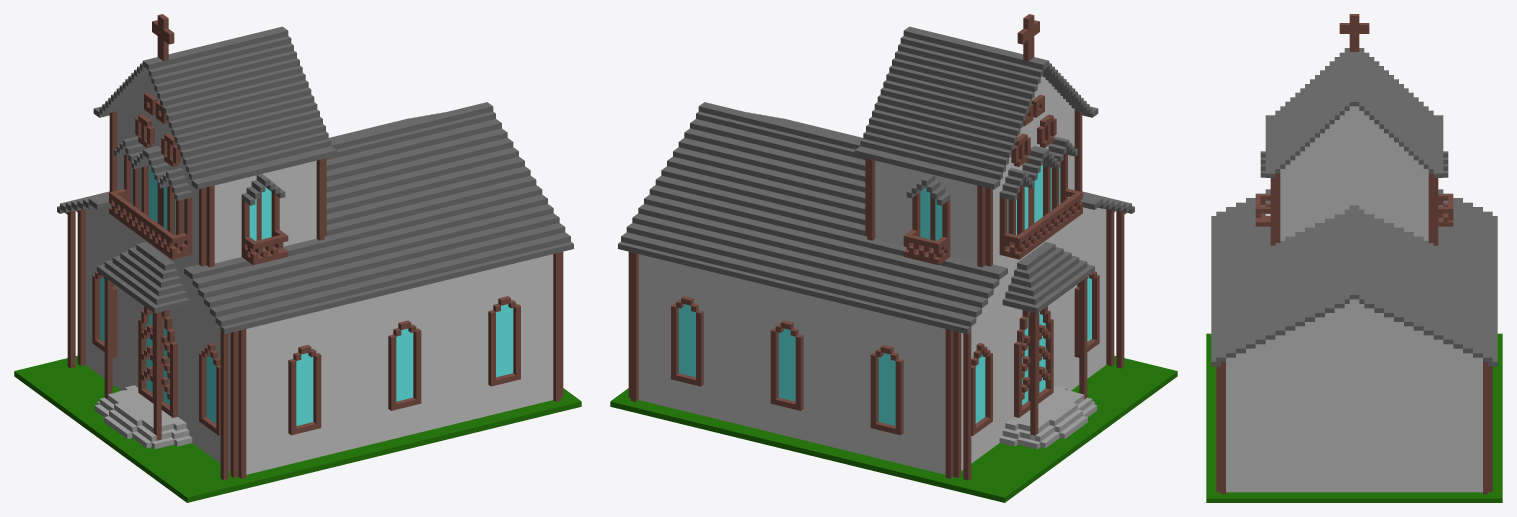
Rendered from church.obj.
3 renders of one model, left to right at view 1: azimuth 30°, elevation 25°; view 2: azimuth 150°, elevation 25°; view 3: azimuth 270°, elevation 25°, orthographic. The views are drawn at different scales.
Bounding box in the file's own units: 7.9 × 7.8 × 6.
1 material, 1 textured.
